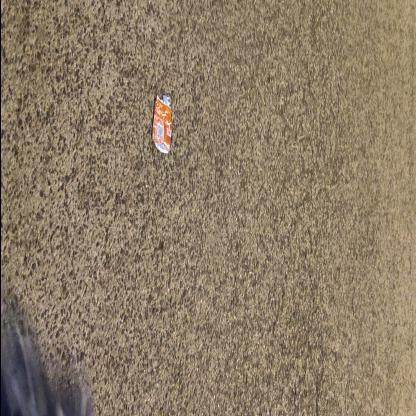metal: (152, 96, 173, 156)
